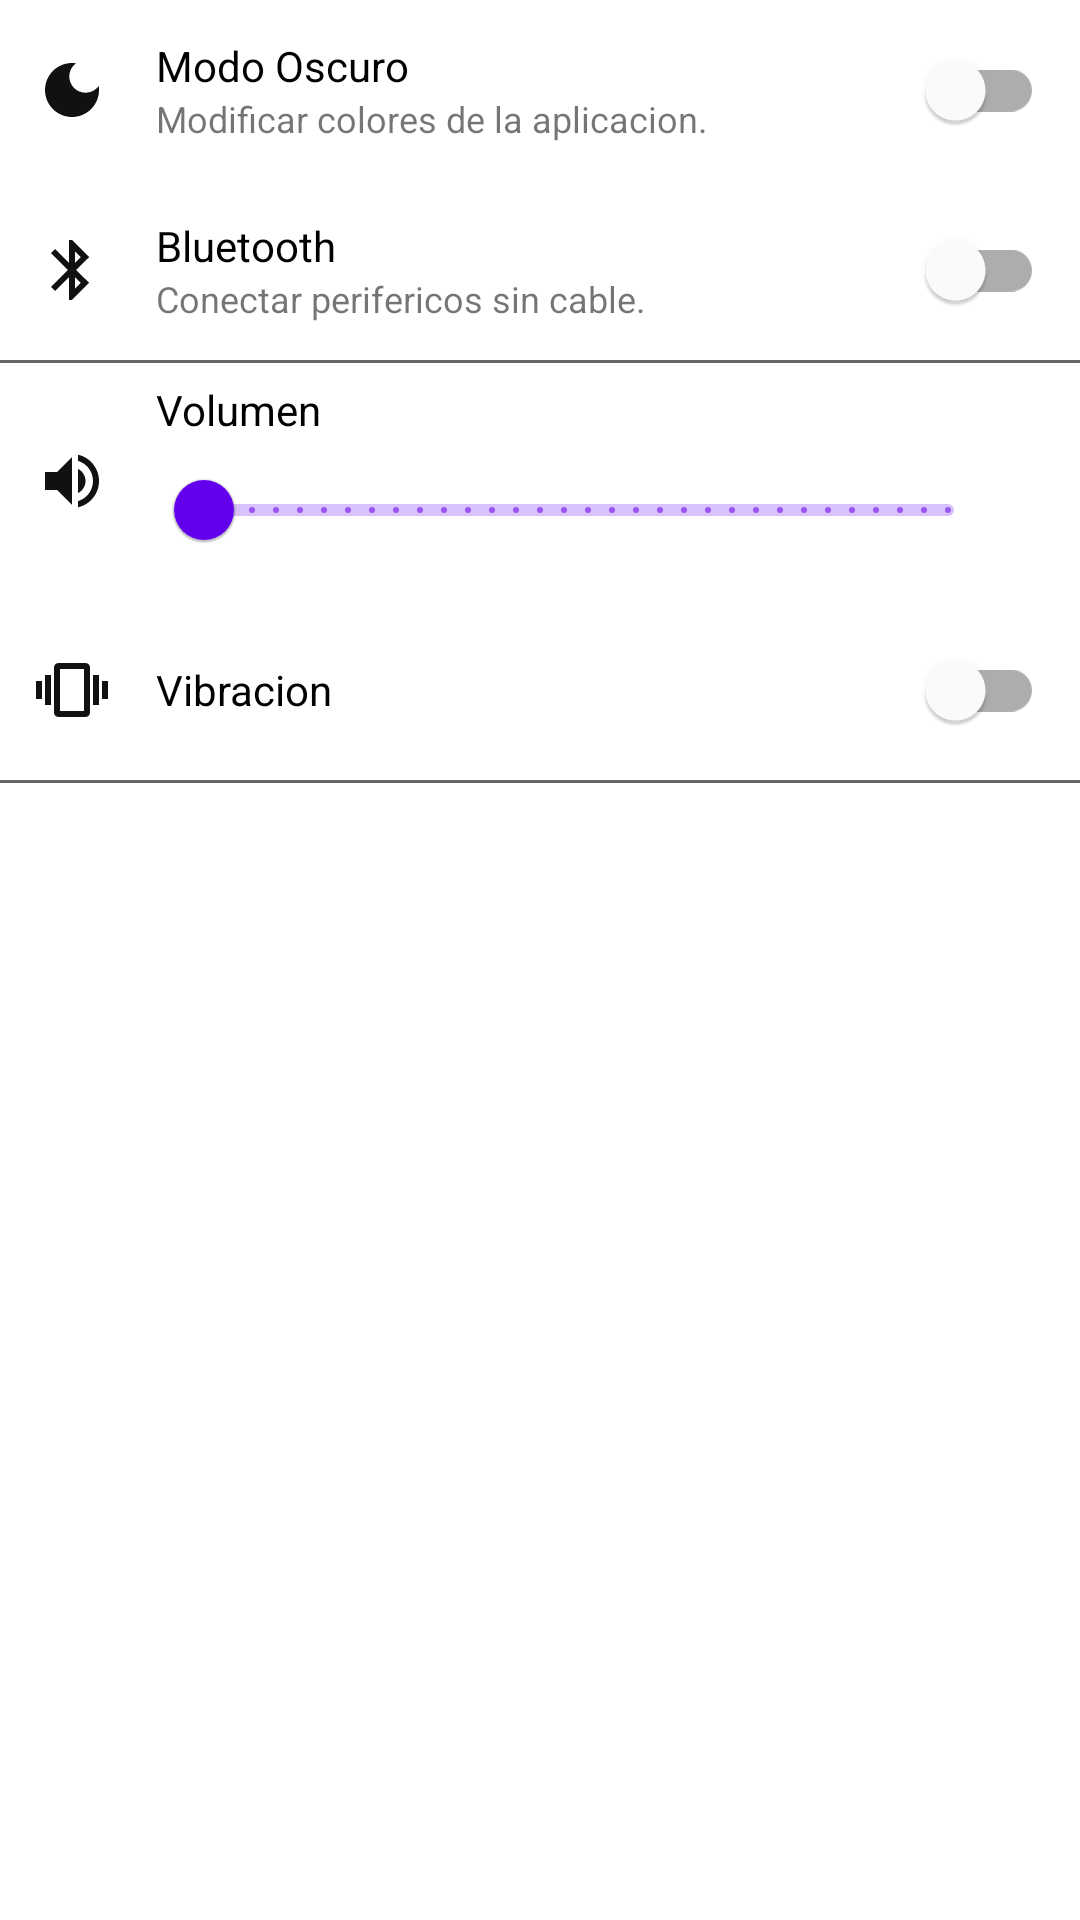

Icons on this 1080w x 1920h Android screen, each with the point to tap as [x,y]:
darkmode: [72,90]
vibration: [72,690]
